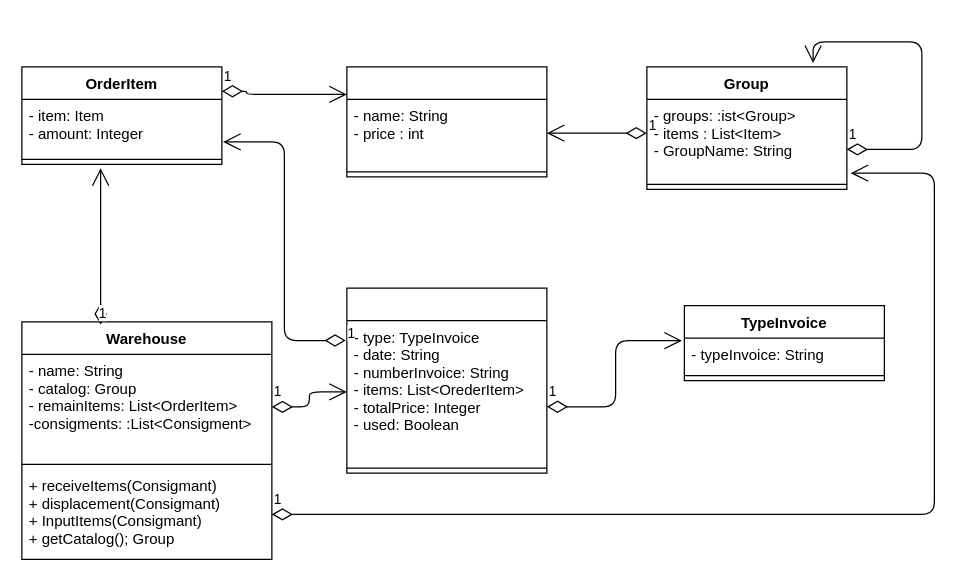
This 978x585 diagram has some shape labels left out. The shapes that lost their labels are listed below. From the top down, each one's box as (x1, y1, x2, y2) in pixels, then its label:
(346, 66, 547, 177): Item
(346, 287, 547, 473): Consignment
